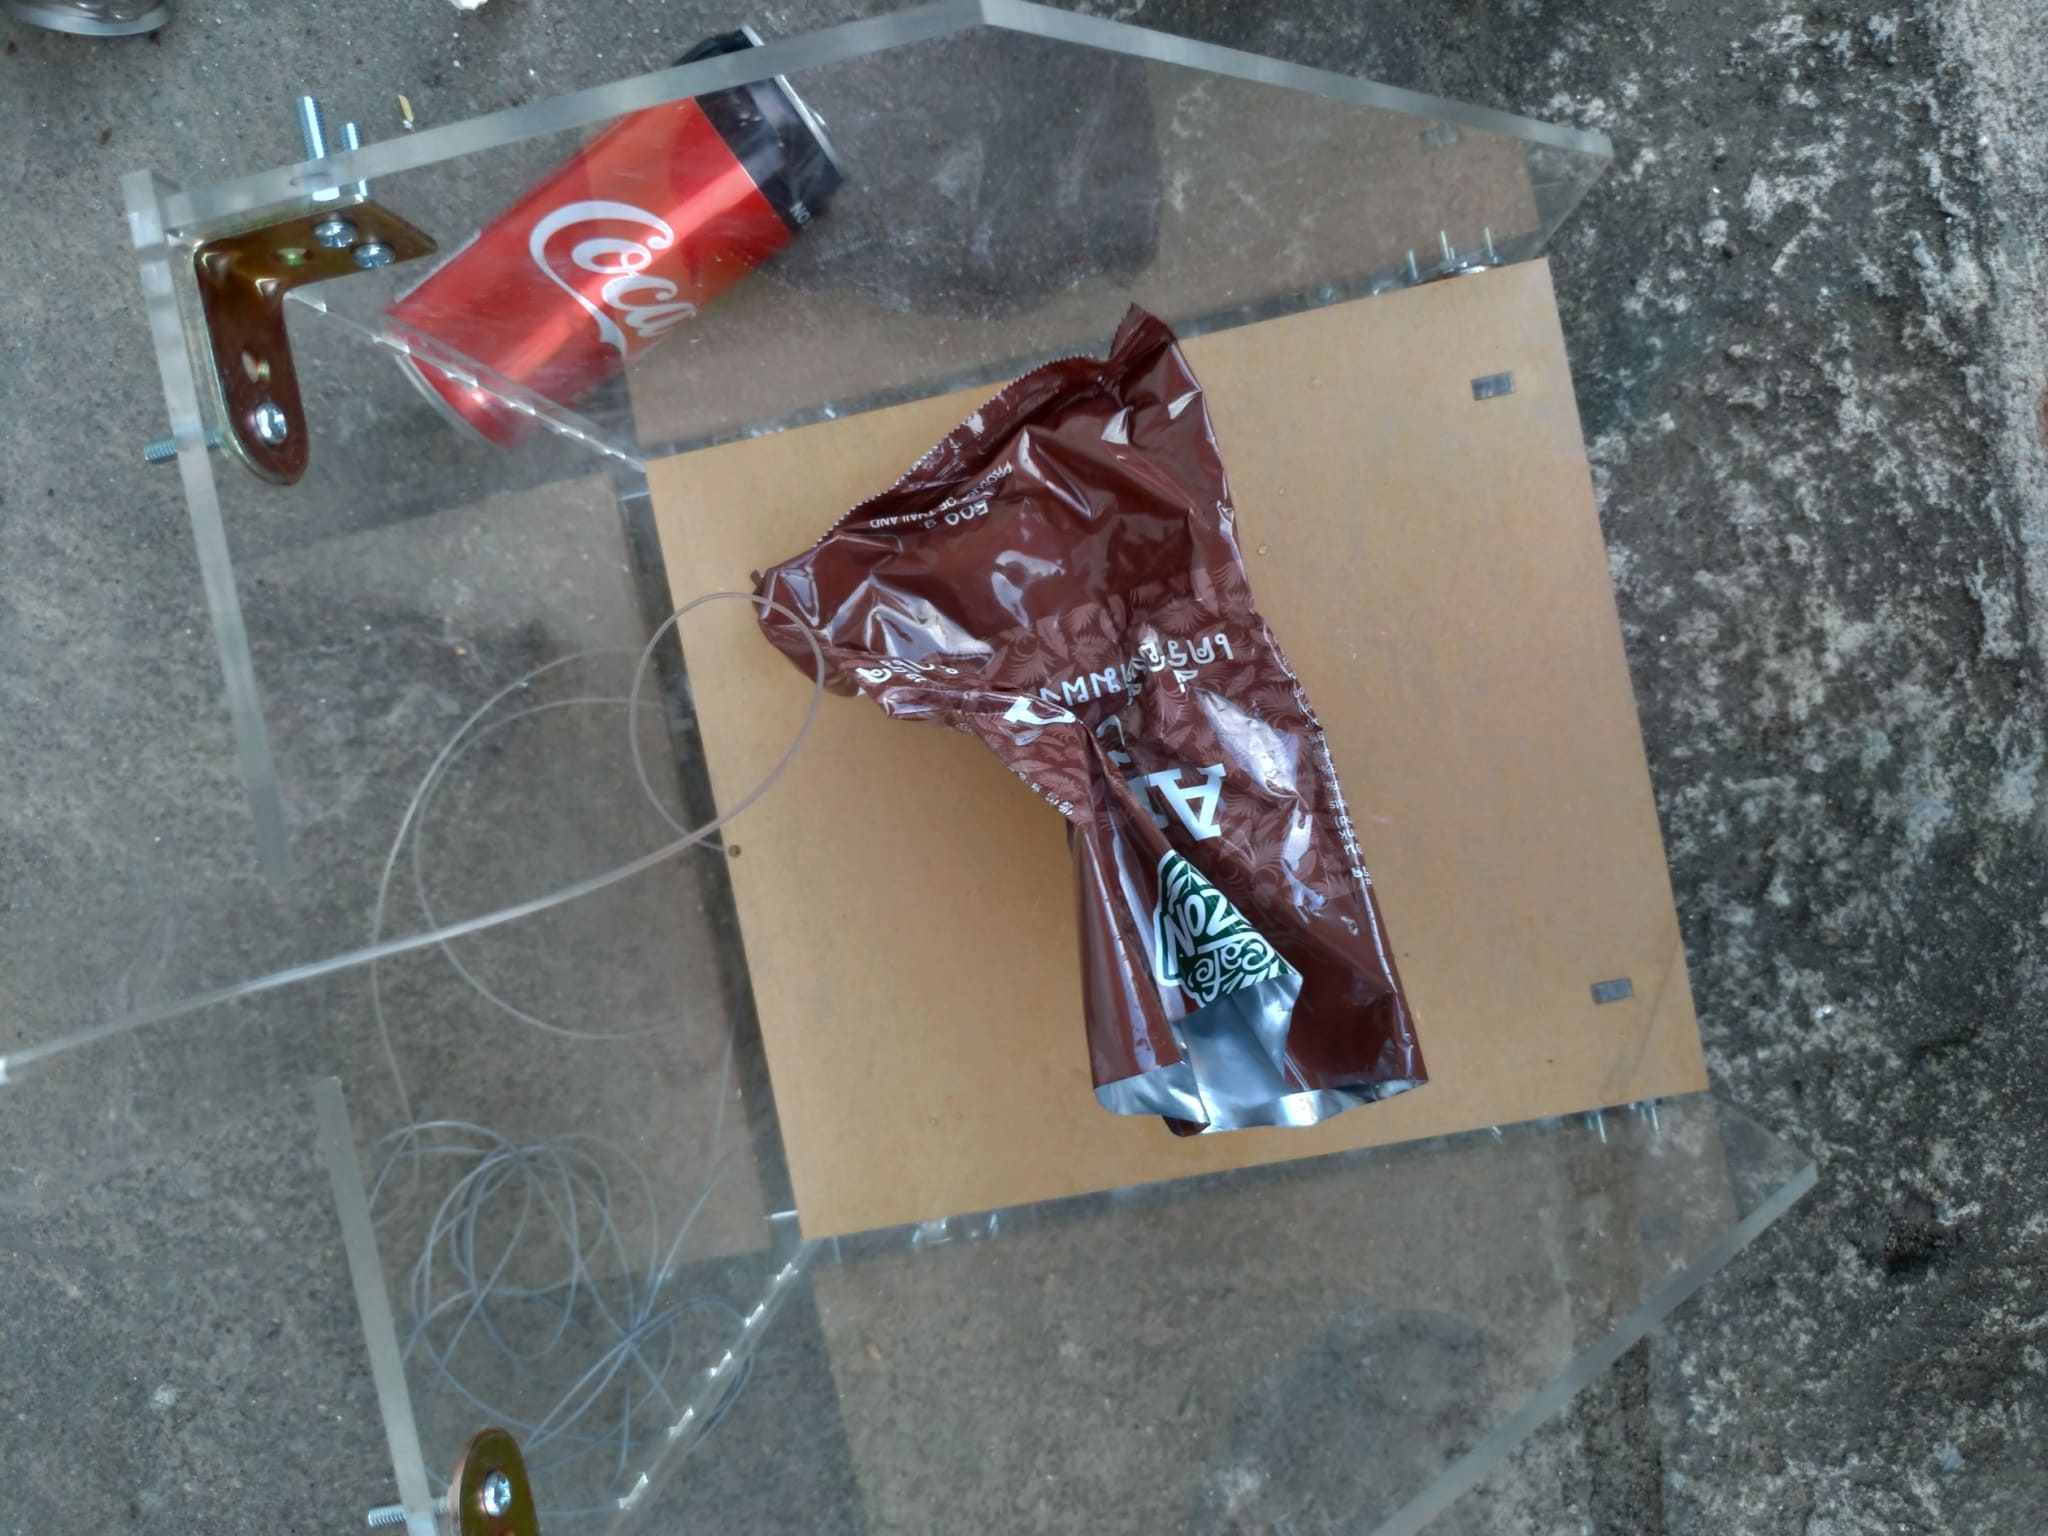AlCan: (385, 26, 851, 447)
Others: (755, 300, 1437, 1126)
